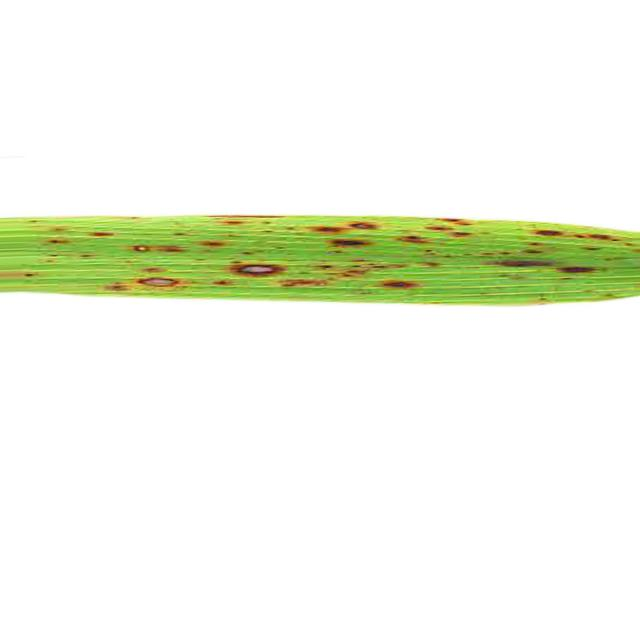Brown_Spot: (495, 259, 552, 268), (239, 264, 281, 275), (380, 279, 420, 289), (329, 239, 370, 248), (282, 279, 325, 287), (309, 225, 345, 234), (556, 266, 595, 274), (522, 241, 546, 254), (139, 278, 175, 286), (349, 221, 379, 230), (398, 235, 428, 244), (199, 240, 226, 248), (425, 224, 452, 232), (574, 234, 612, 239), (532, 230, 562, 236), (91, 231, 114, 238), (159, 245, 182, 252), (221, 218, 244, 225), (450, 231, 471, 238), (132, 245, 150, 251), (316, 264, 334, 269)
